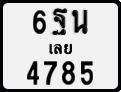letters: (70, 8, 89, 35), (51, 8, 68, 36), (32, 9, 47, 36), (43, 59, 58, 86), (61, 59, 76, 86), (26, 58, 40, 86), (80, 59, 94, 86)
province: (48, 43, 74, 55)
